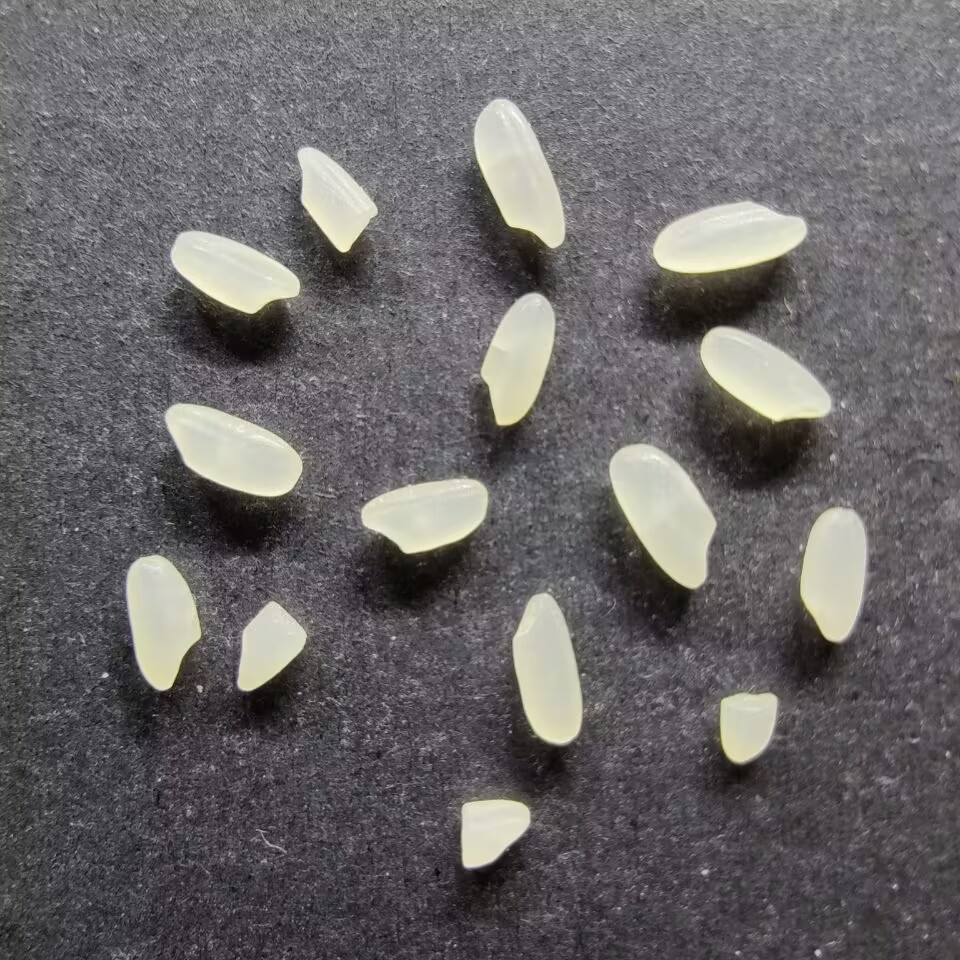broken: (295, 145, 378, 252), (236, 600, 308, 692), (459, 798, 529, 869), (718, 692, 777, 763)
rice: (608, 444, 716, 590), (472, 98, 566, 250), (164, 403, 302, 497), (699, 326, 831, 422), (652, 200, 805, 273), (169, 230, 300, 314), (511, 593, 582, 744), (125, 554, 201, 691), (479, 292, 555, 426), (360, 478, 487, 555), (798, 507, 867, 643)
